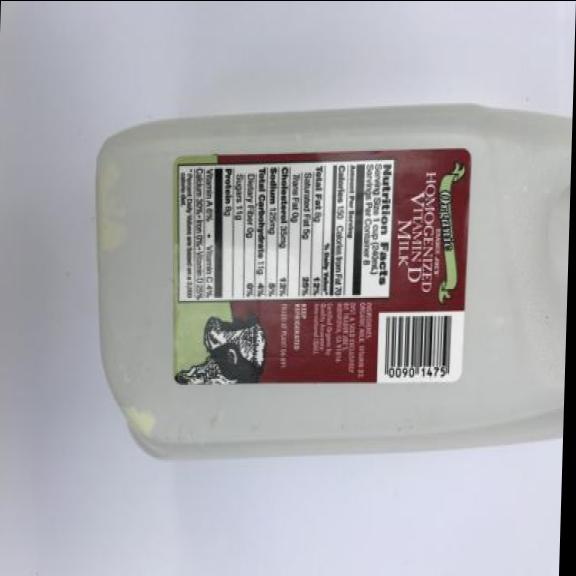Plastik: (83, 91, 573, 474)
